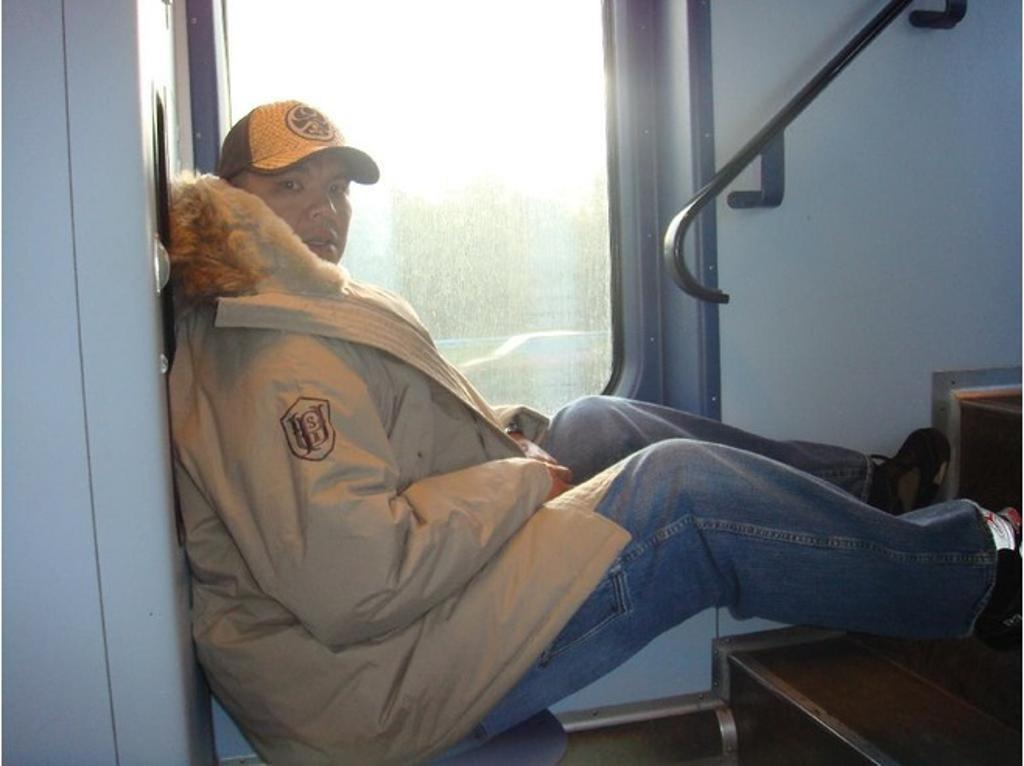face: (251, 131, 351, 275)
